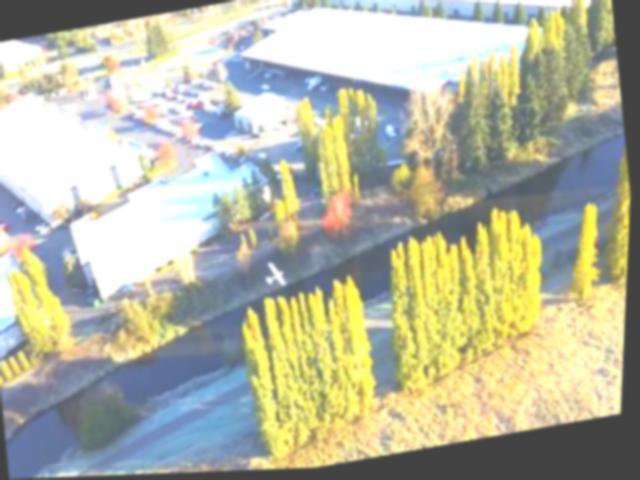uav: (257, 255, 299, 297)
